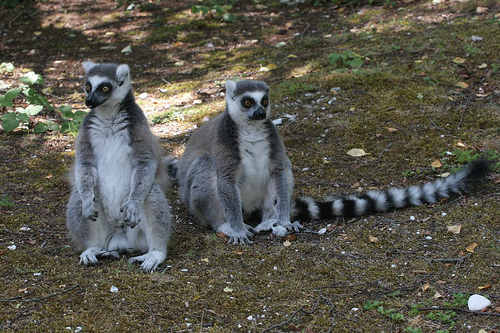cat: (178, 73, 488, 246), (65, 57, 177, 274)
